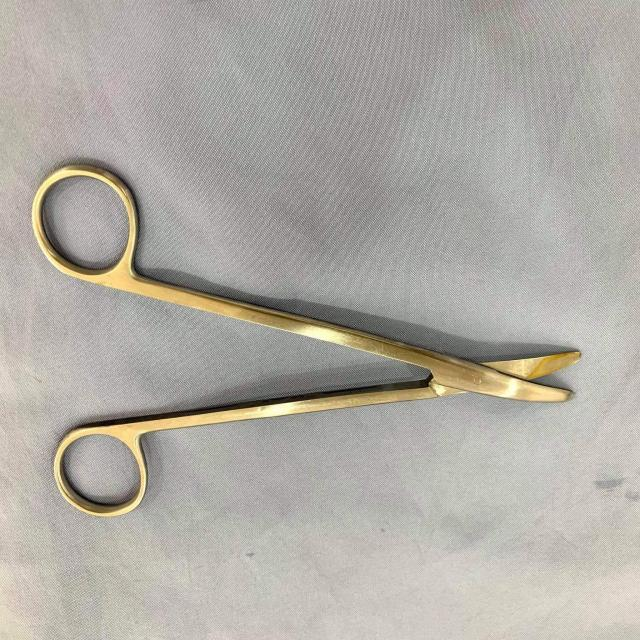Mayo_metz: (29, 157, 586, 528)
